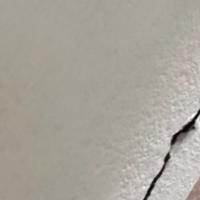crack: (125, 108, 199, 199)
